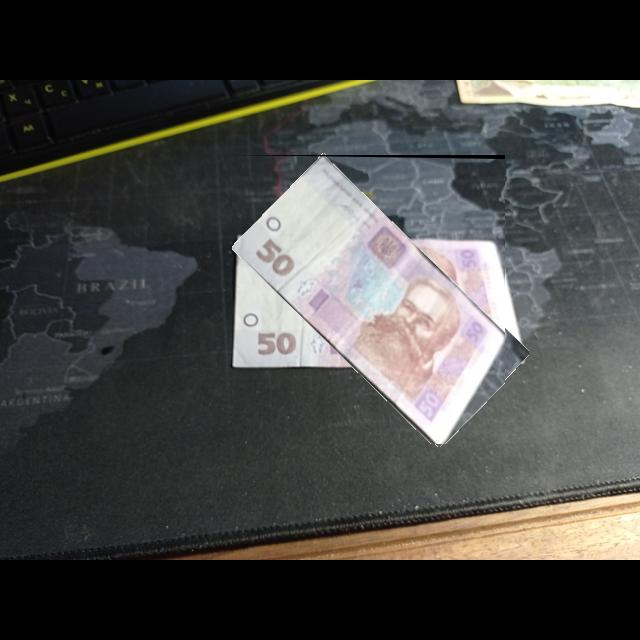50uah: (232, 156, 506, 445)
